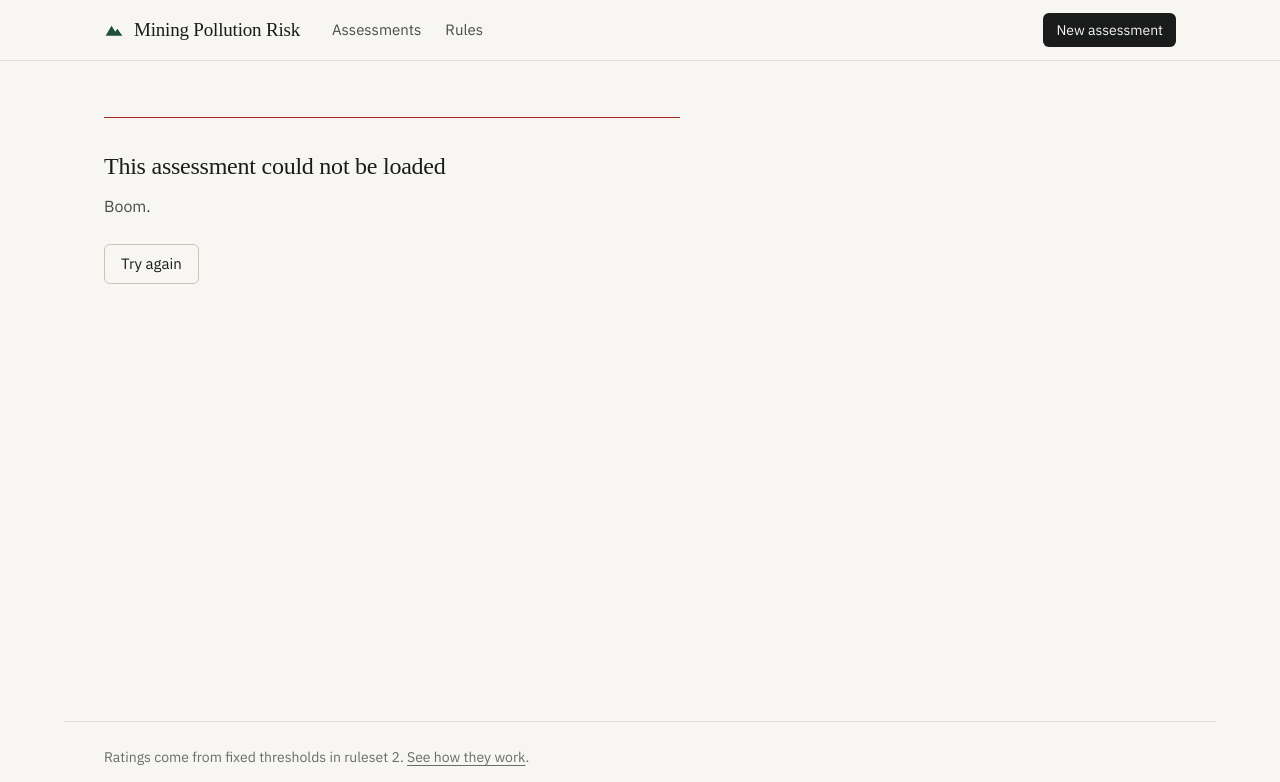
Test case: Assessment result › offers a retry when loading fails
Check: the heading "This assessment could not be loaded" is shown, box [104,150,446,182]
Click the button "Try again". click: (151, 264)
box: [104,244,199,284]
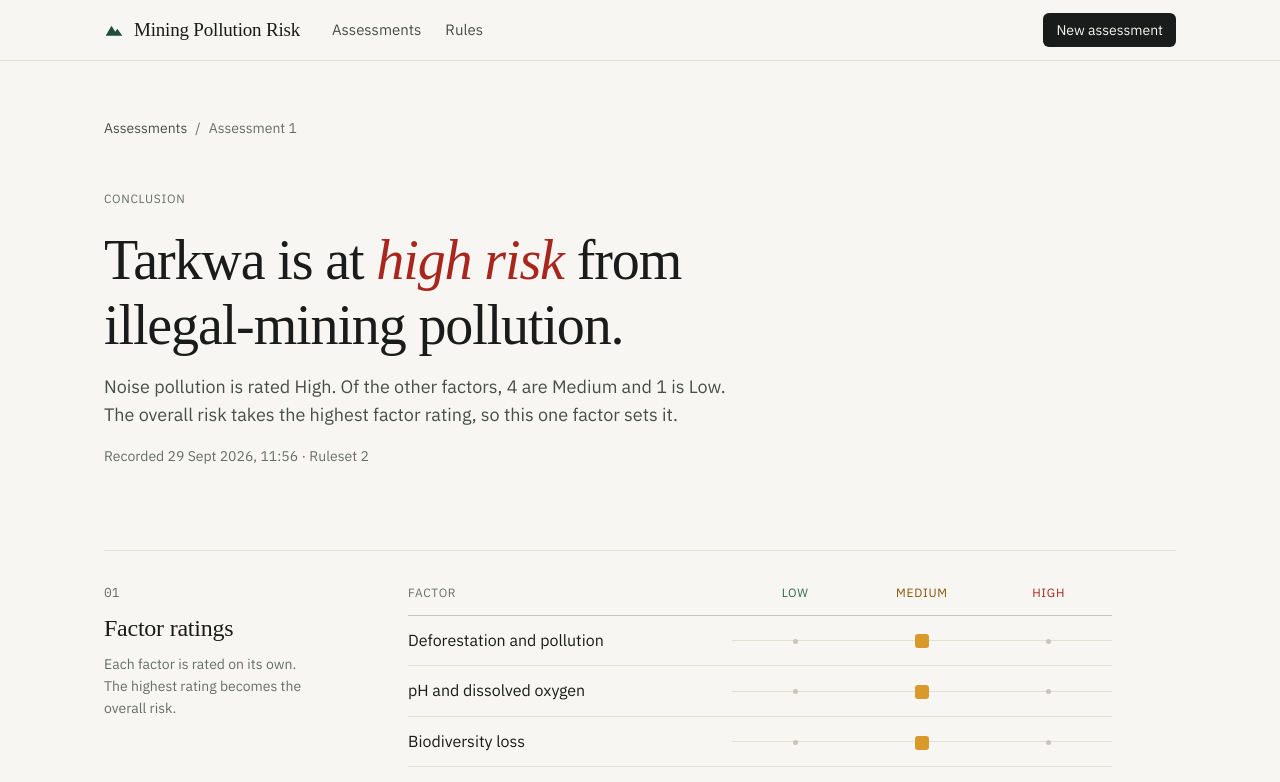
Check: the heading "Tarkwa is at high risk from illegal-mining pollution." is shown, box [104,229,681,356]
